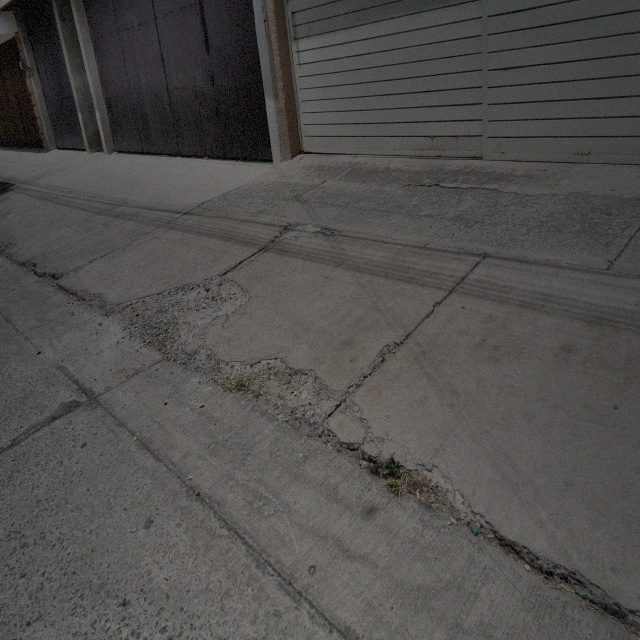pothole: (115, 262, 252, 352), (215, 354, 343, 442), (374, 451, 473, 535), (360, 345, 400, 383), (272, 220, 326, 242), (42, 270, 63, 286), (20, 260, 38, 273)
